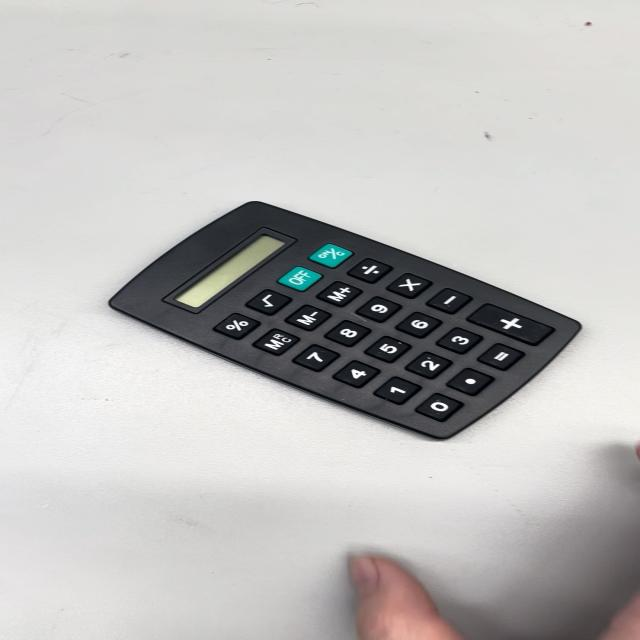calculator: (108, 198, 587, 438)
